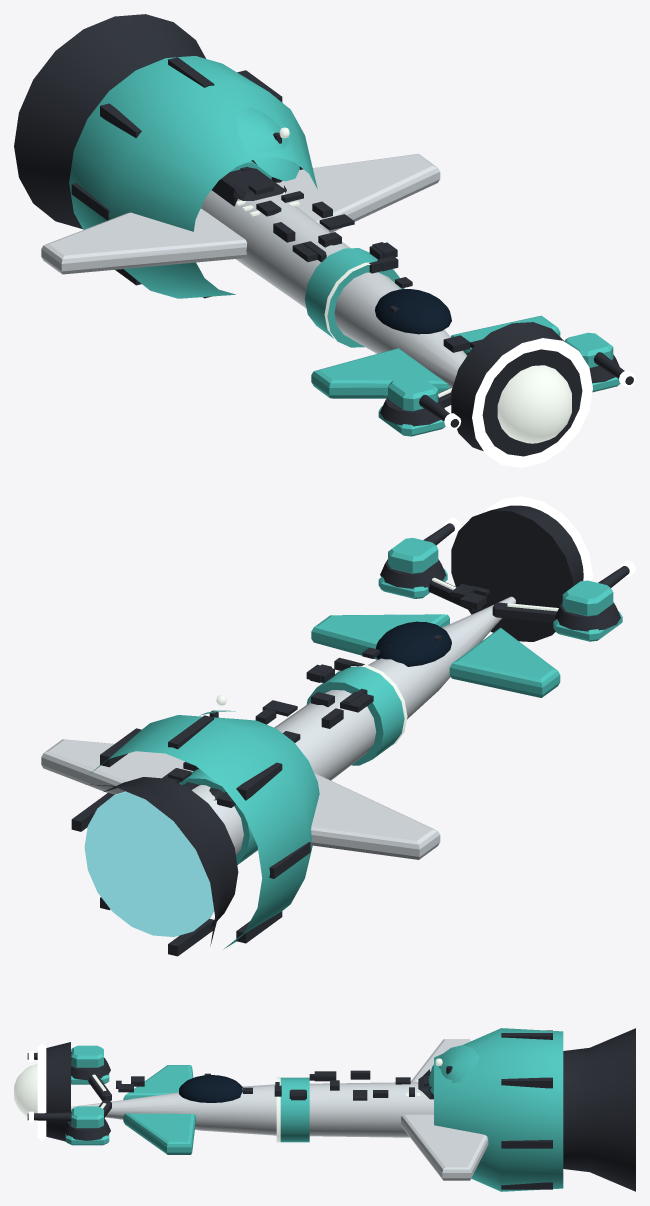
Rendered from ship_wisp.glb.
The picture shows the model from 3 angles, top to bottom: view 1: azimuth 30°, elevation 25°; view 2: azimuth 150°, elevation 25°; view 3: azimuth 270°, elevation 25°; orthographic projection. The views are drawn at different scales.
Visible parts, largest first — view 1: secondary, trim, primary, glow, accent, glass; view 2: secondary, trim, primary, engine, glass, accent, glow; view 3: secondary, trim, primary, glow, glass, accent.
Part boxes in pixels (left/top/right/bottom): secondary: left=69, top=56, right=620, bottom=436; trim: left=14, top=14, right=633, bottom=456; primary: left=41, top=153, right=466, bottom=387; glow: left=236, top=127, right=571, bottom=443; accent: left=444, top=338, right=635, bottom=467; glass: left=375, top=289, right=451, bottom=334; secondary: left=89, top=538, right=622, bottom=949; trim: left=71, top=505, right=629, bottom=956; primary: left=41, top=596, right=515, bottom=859; engine: left=84, top=791, right=214, bottom=936; glass: left=375, top=621, right=451, bottom=666; accent: left=444, top=496, right=635, bottom=581; glow: left=216, top=577, right=558, bottom=748; secondary: left=65, top=1028, right=563, bottom=1191; trim: left=27, top=1028, right=635, bottom=1191; primary: left=71, top=1039, right=488, bottom=1180; glow: left=14, top=1058, right=442, bottom=1142; glass: left=179, top=1075, right=242, bottom=1102; accent: left=28, top=1043, right=46, bottom=1141.
Size of the model in its own units: 1.56 by 0.8354 by 3.12.
